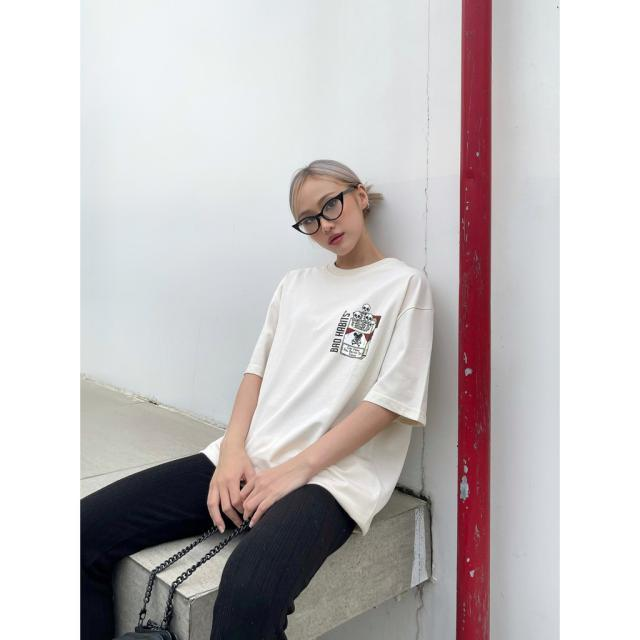Shirt: (198, 253, 438, 535)
